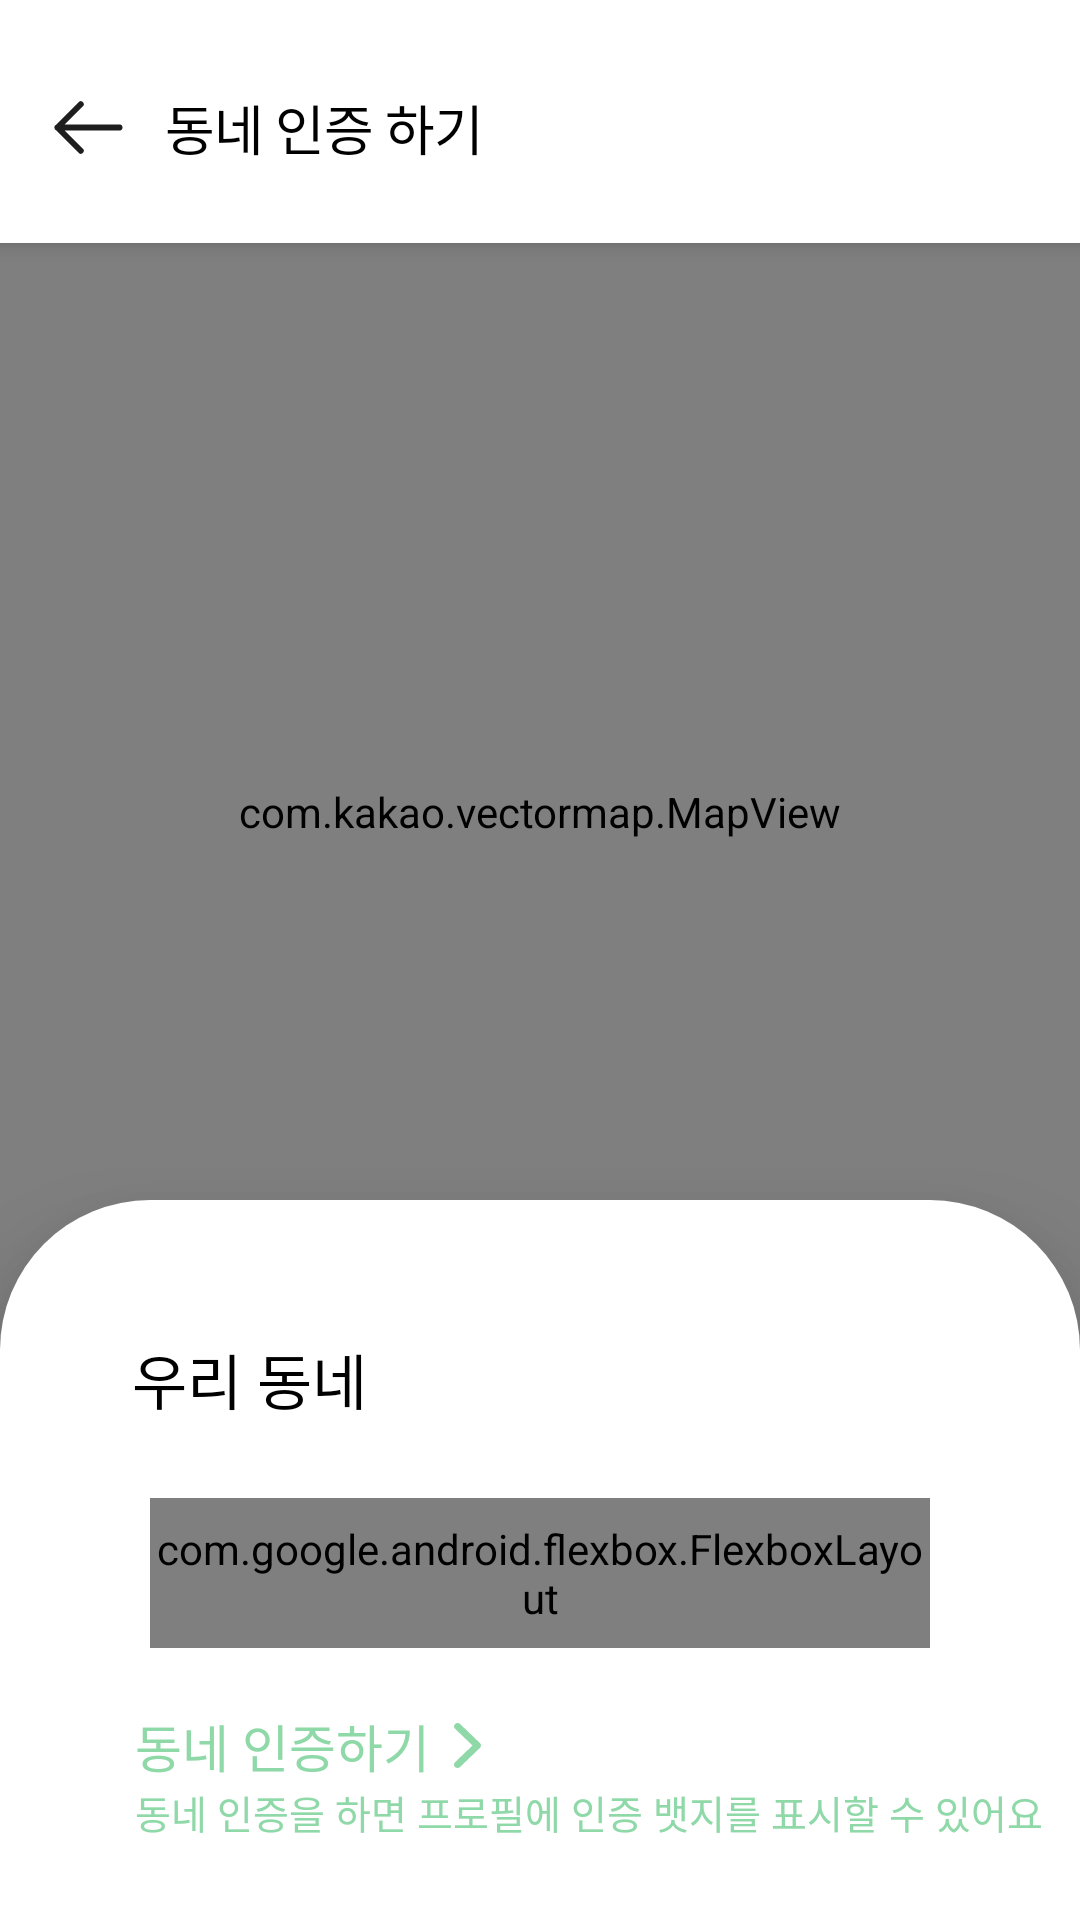

Icon bounding boxes for this 1080x1920 phone screenshot, format (x1, y1, x2, y2):
뒤로가기: (54, 101, 123, 154)
